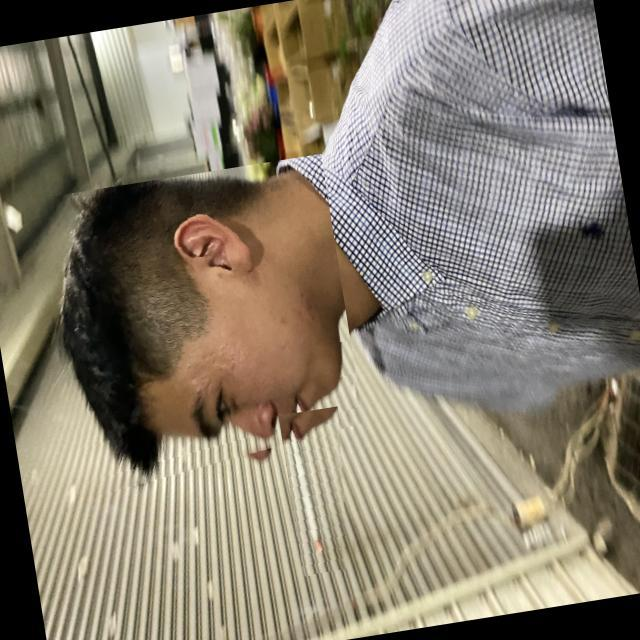cigarette: (278, 406, 364, 576)
